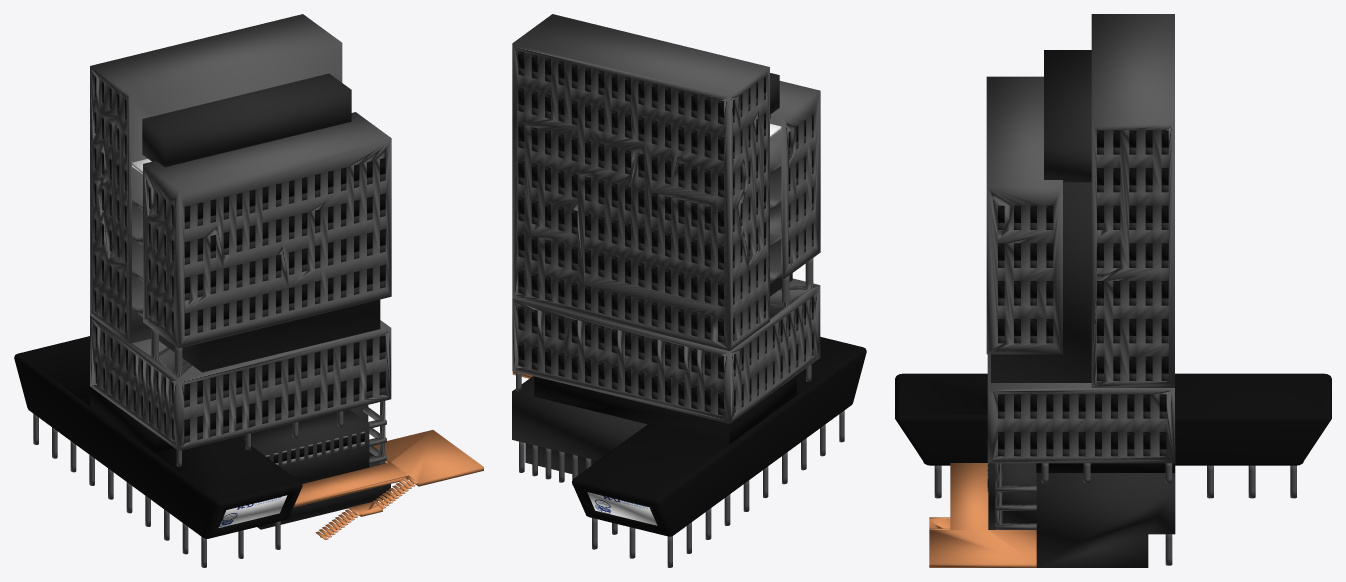
The model's file is sangsang.obj.
3 renders of one model, left to right at view 1: azimuth 30°, elevation 25°; view 2: azimuth 150°, elevation 25°; view 3: azimuth 270°, elevation 25°, orthographic. The views are drawn at different scales.
Visible parts, largest first — view 1: Box013, Box003, Box022, Box012, Box015, Box004, Box009, Box1263; view 2: Box013, Box003, Box001, Box1265; view 3: Box013, Box003, Box001, Box015, Box012, Box022, Box004.
Part boxes in pixels (<box>): Box013: <box>90,14,391,466</box>; Box003: <box>14,336,302,538</box>; Box022: <box>142,73,351,166</box>; Box012: <box>293,430,483,539</box>; Box015: <box>159,299,380,372</box>; Box004: <box>238,409,369,483</box>; Box009: <box>257,452,390,529</box>; Box1263: <box>218,495,287,527</box>; Box013: <box>512,14,820,423</box>; Box003: <box>534,337,866,536</box>; Box001: <box>512,376,647,475</box>; Box1265: <box>587,492,657,525</box>; Box013: <box>986,14,1174,529</box>; Box003: <box>895,373,1331,472</box>; Box001: <box>1036,417,1175,567</box>; Box015: <box>991,182,1091,382</box>; Box012: <box>929,463,1036,567</box>; Box022: <box>1044,50,1091,182</box>; Box004: <box>988,463,1036,523</box>.
Bounding box in the file's own units: 746 × 1060 × 945.
